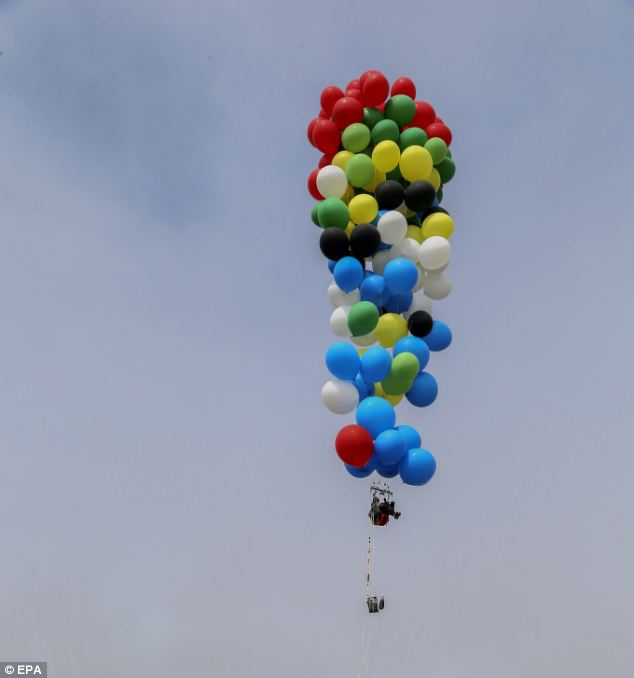Balloon: (335, 424, 373, 466), (357, 396, 396, 432), (326, 341, 361, 381), (400, 448, 436, 486), (321, 380, 359, 414), (384, 258, 418, 294), (400, 144, 434, 180), (373, 429, 405, 466), (406, 370, 438, 406), (418, 235, 450, 270), (316, 164, 348, 199), (361, 347, 392, 382), (345, 153, 376, 188), (349, 301, 379, 335), (350, 223, 380, 257), (333, 257, 362, 292), (318, 196, 349, 228), (312, 119, 341, 153), (385, 94, 416, 125), (375, 312, 406, 343), (377, 211, 407, 242), (347, 193, 378, 223), (320, 226, 349, 258), (405, 181, 435, 211), (342, 122, 371, 153), (372, 140, 400, 172), (361, 74, 389, 106), (423, 271, 454, 299), (333, 96, 364, 124), (376, 180, 405, 209), (393, 352, 419, 379), (408, 311, 432, 336)
